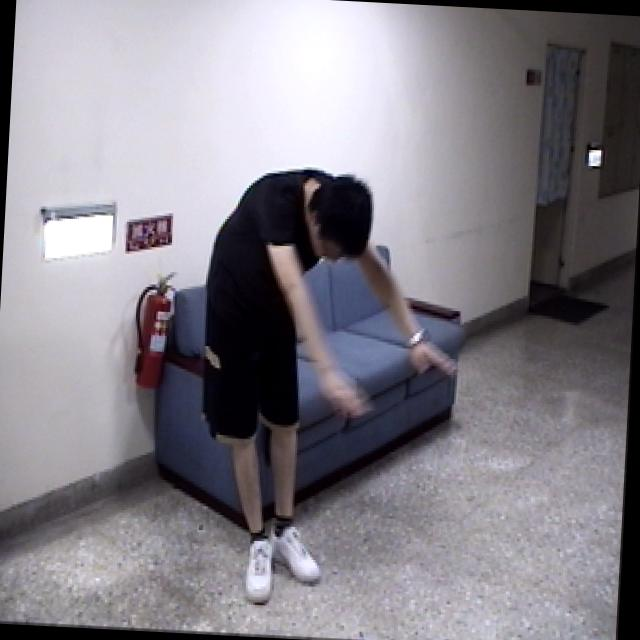bend: (182, 147, 477, 624)
